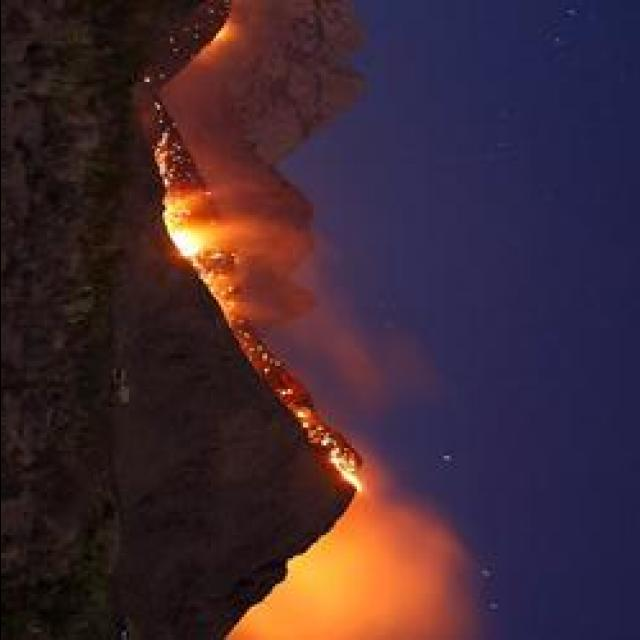fire: (329, 454, 359, 492), (169, 228, 200, 258)
smoke: (324, 540, 496, 638), (324, 303, 436, 417), (230, 213, 310, 278)
